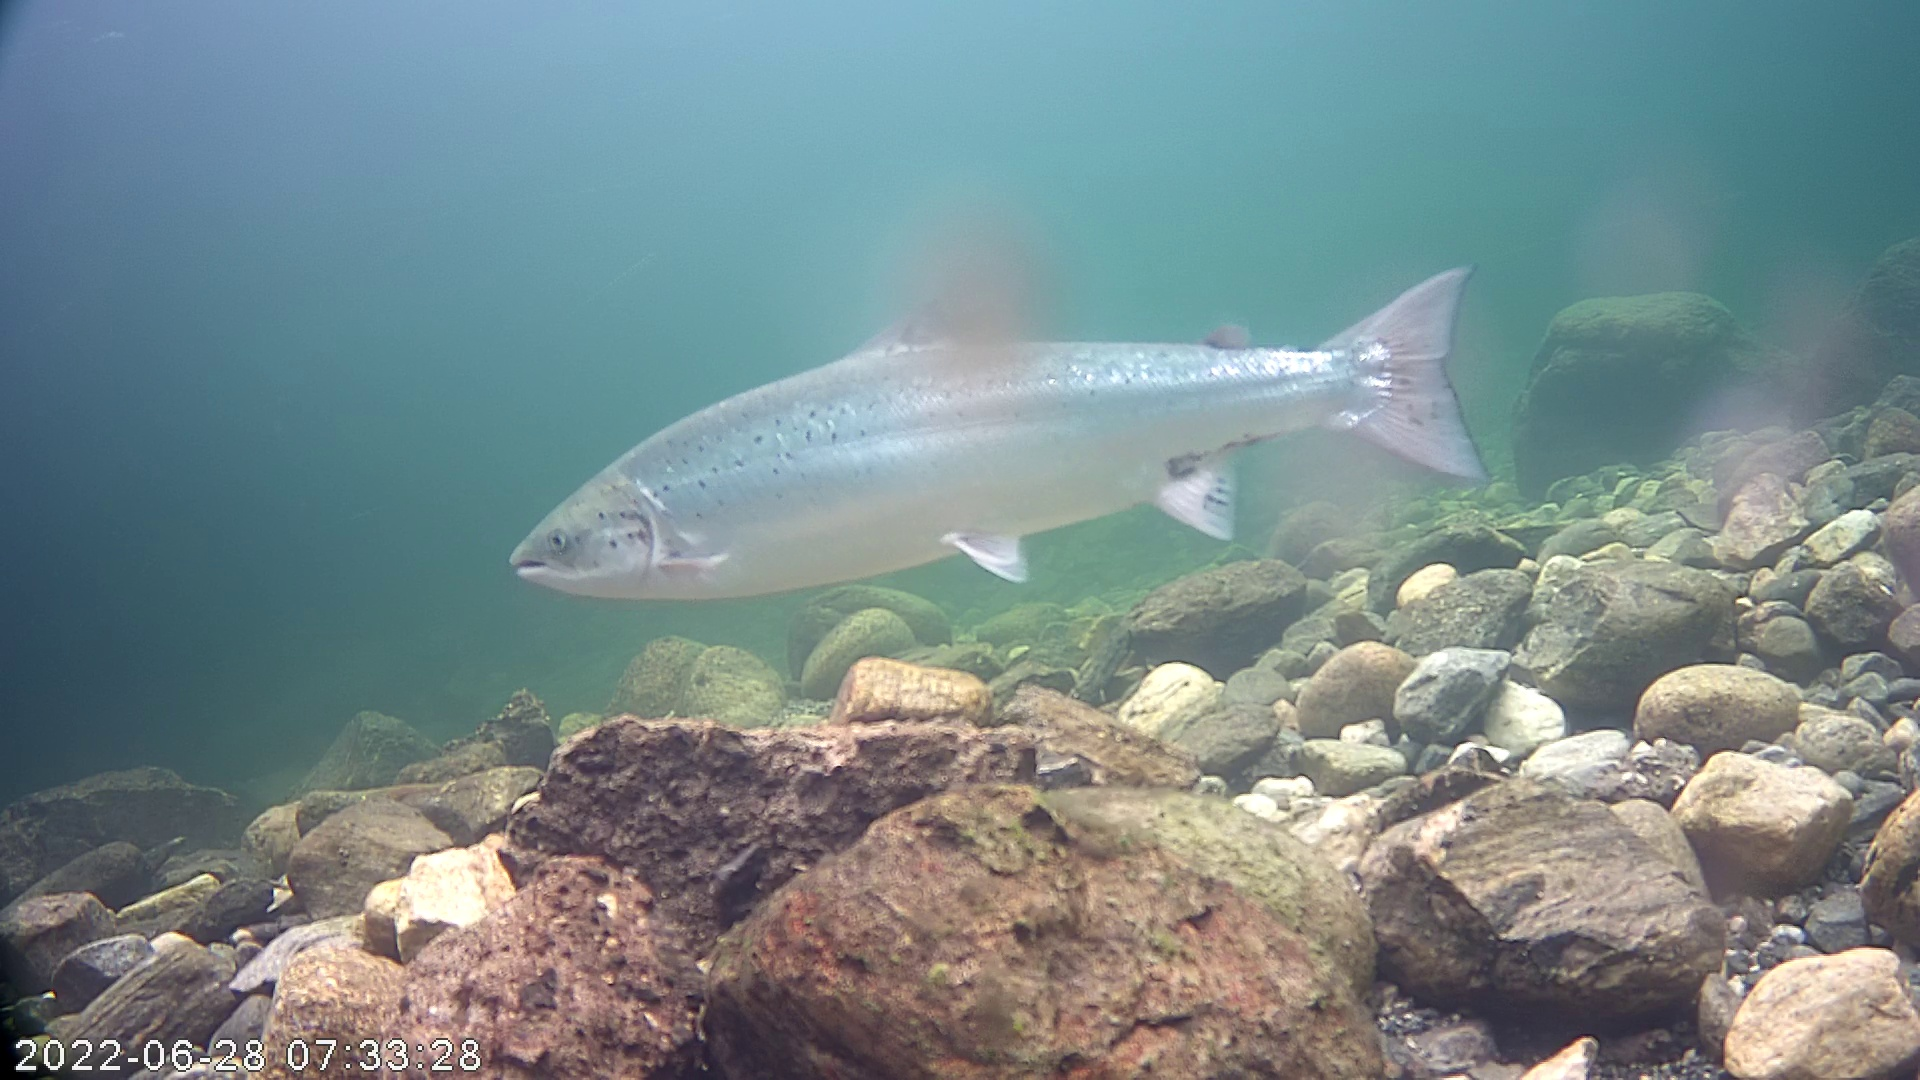salmon: (514, 195, 1520, 626)
